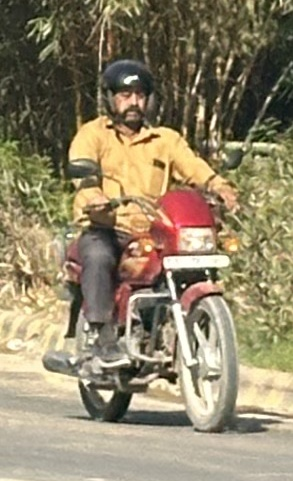BikeWithRider: (38, 53, 250, 438)
Helmet: (94, 56, 160, 130)
